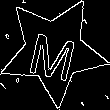M_N: (26, 21, 81, 81)
